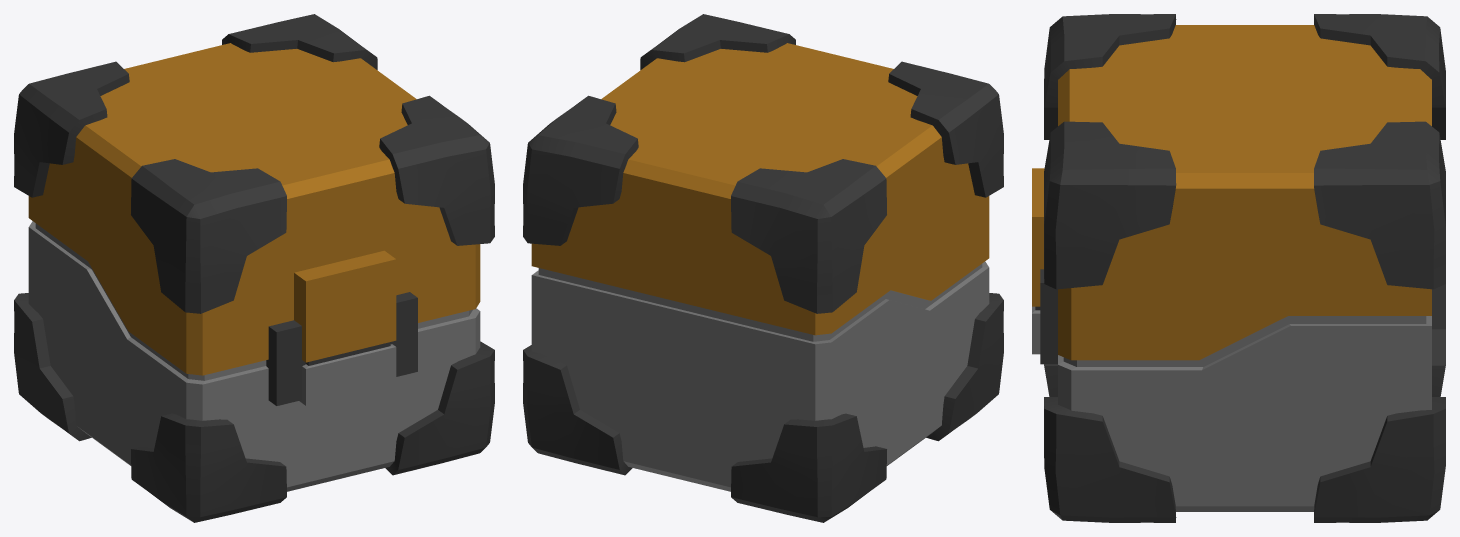
Rendered from pickup_crate.glb.
The picture shows the model from 3 angles, left to right: view 1: azimuth 30°, elevation 25°; view 2: azimuth 150°, elevation 25°; view 3: azimuth 270°, elevation 25°; orthographic projection. The views are drawn at different scales.
Parts seen in each view (by area): view 1: Pickup_Crate; view 2: Pickup_Crate; view 3: Pickup_Crate.
Boxes of the visible parts, x1,y1,x2,y2 form: Pickup_Crate: (14,14,494,522); Pickup_Crate: (523,14,1003,522); Pickup_Crate: (1032,14,1445,522).
Bounding box in the file's own units: 0.8729 × 0.8576 × 0.899.
1 material, 1 textured.
